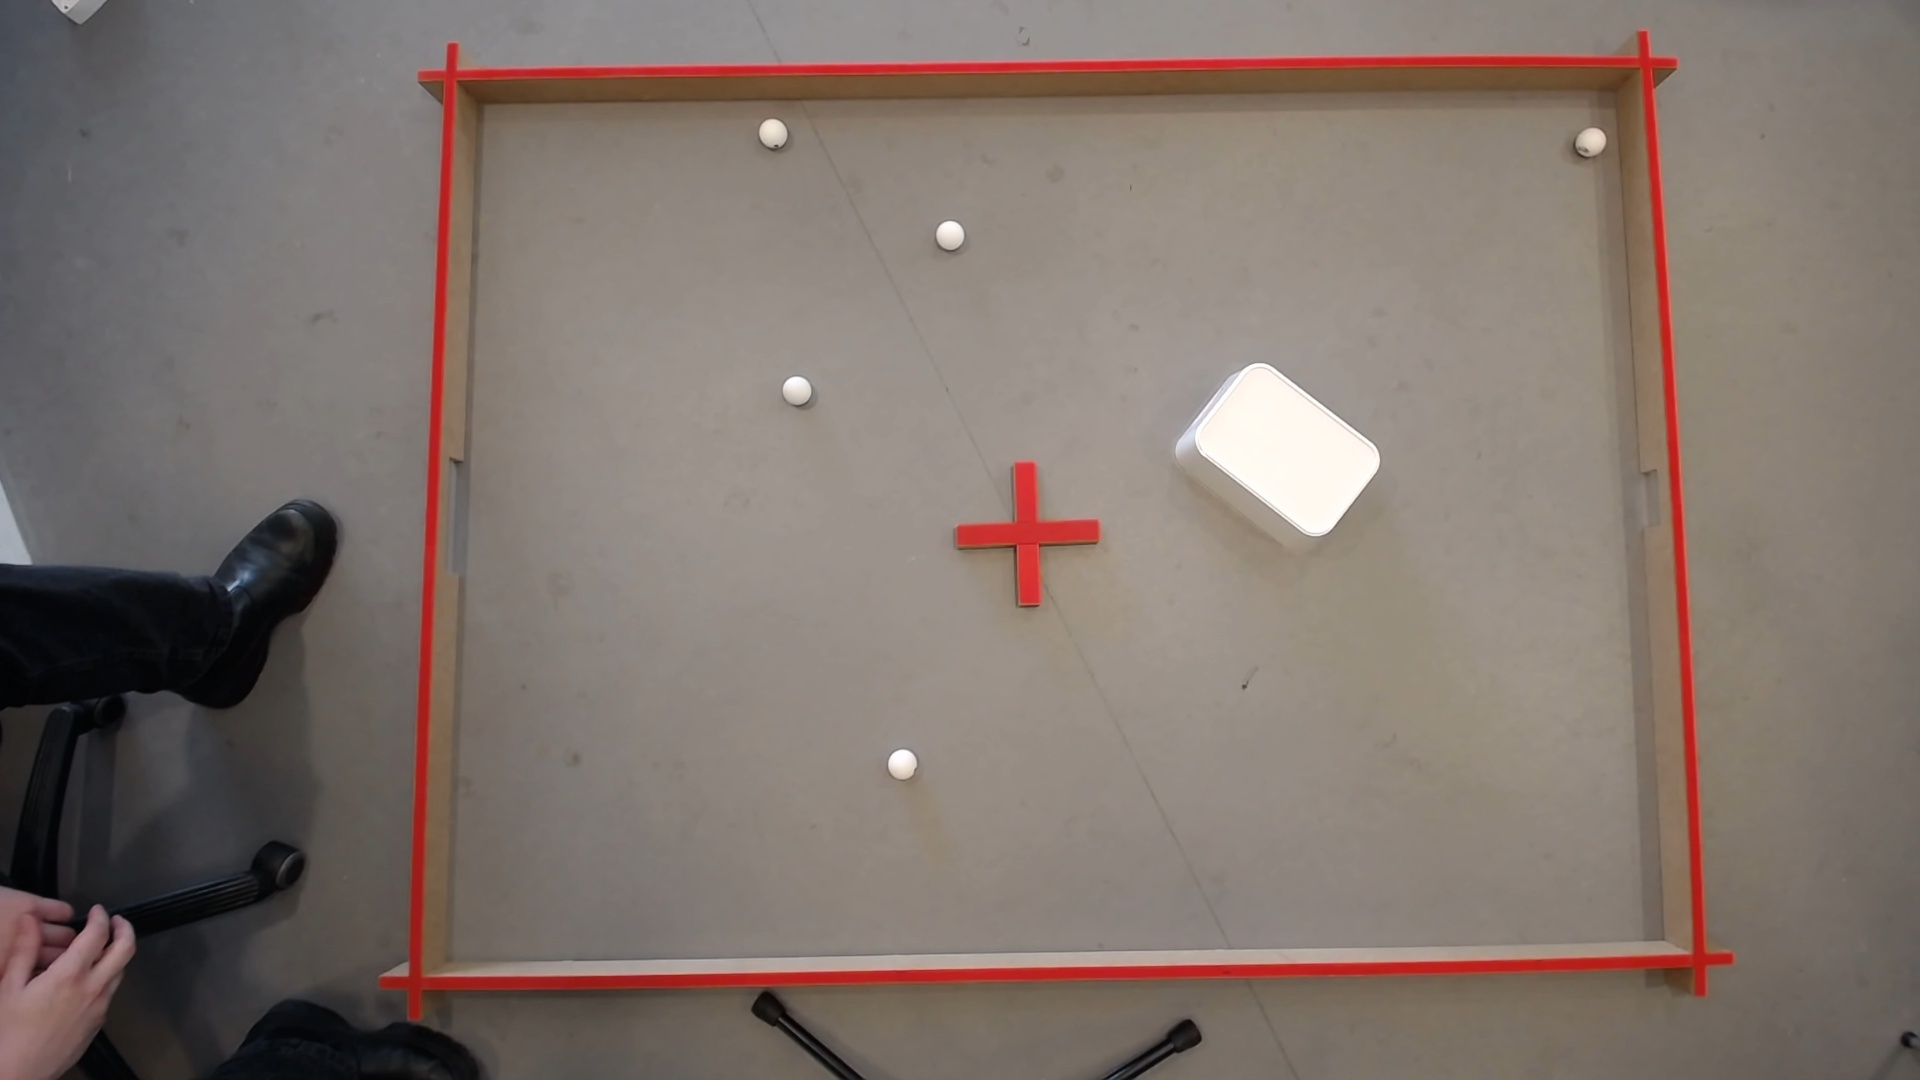balls: (1184, 351, 1389, 545), (884, 744, 919, 778), (756, 113, 787, 144), (781, 371, 812, 400), (936, 220, 963, 241)
car: (1578, 124, 1607, 153)
